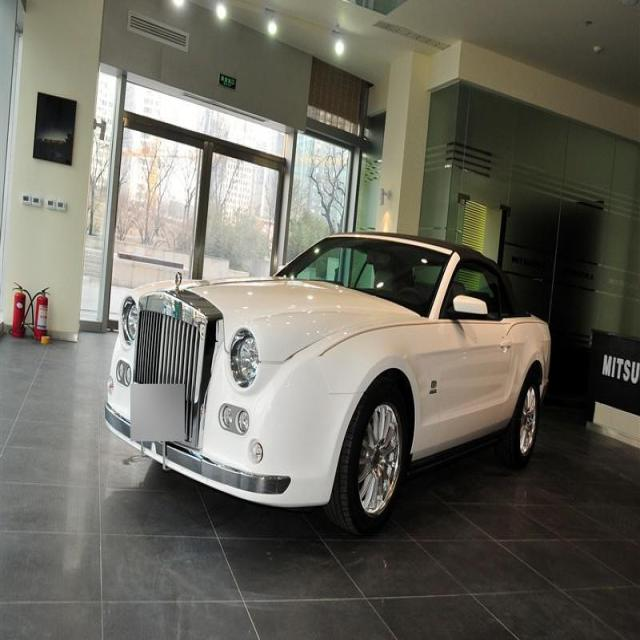front_bumper: (104, 352, 328, 507)
front_glass: (278, 234, 451, 322)
front_left_side_door: (429, 296, 516, 452)
front_left_side_light: (228, 325, 262, 393)
front_left_side_mirror: (447, 294, 490, 322)
front_right_side_light: (119, 292, 142, 346)
wheel: (340, 388, 414, 530), (510, 372, 540, 458)
